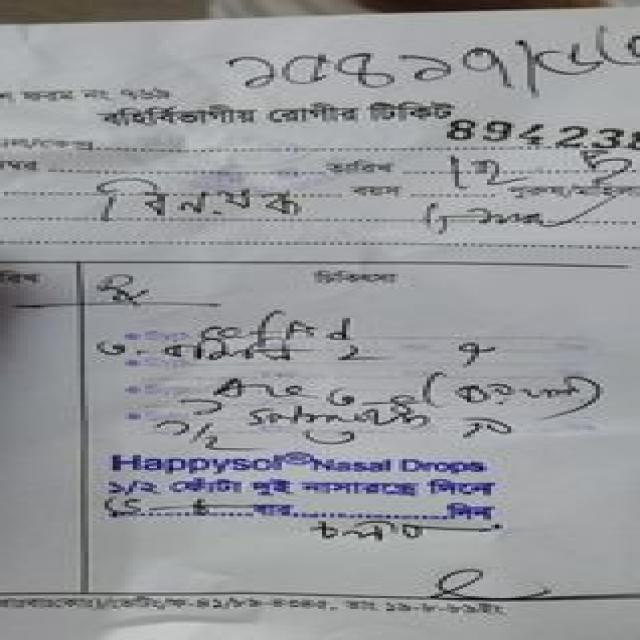Ace: (199, 372, 312, 404)
Ceftid: (178, 311, 371, 346)
Salmolin: (242, 407, 435, 433)
